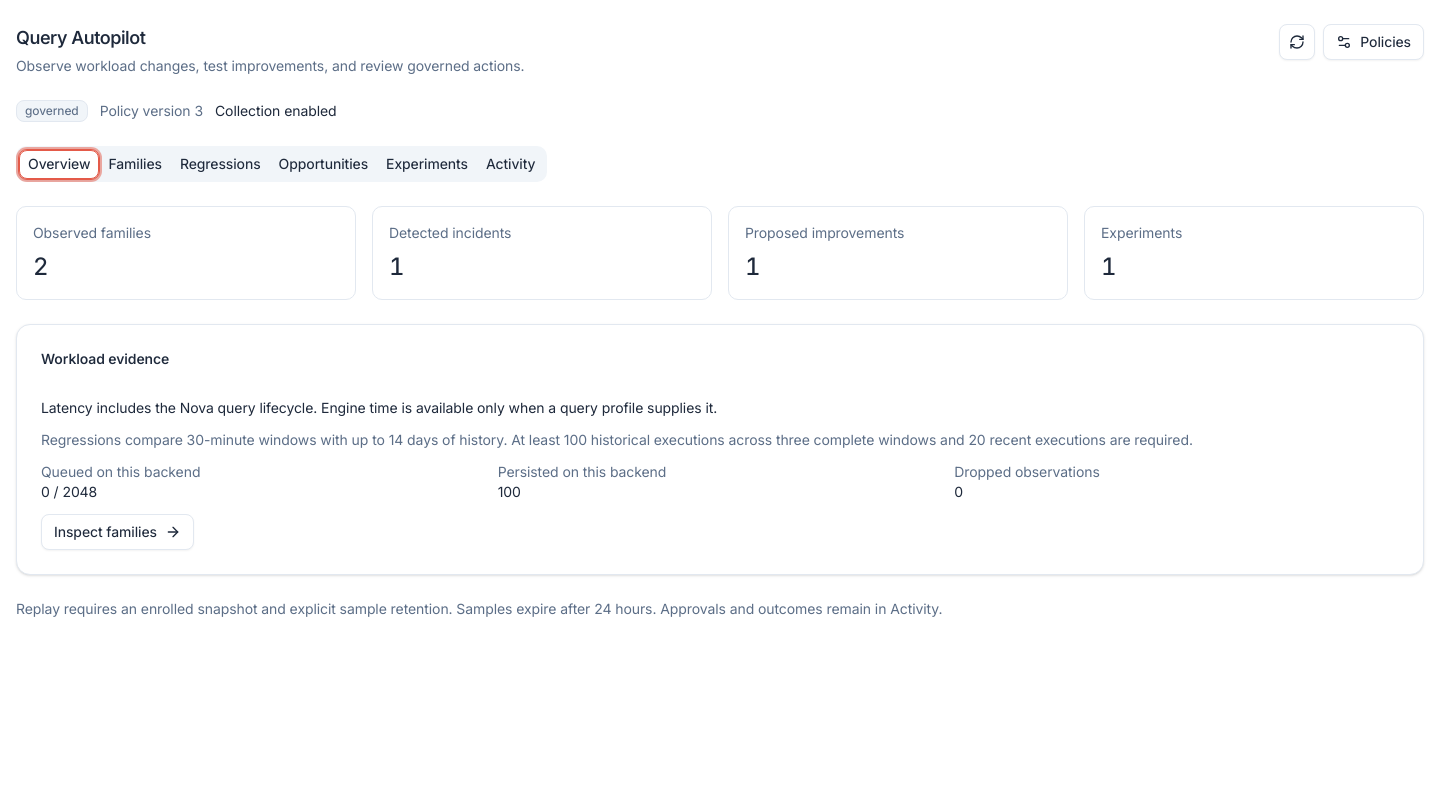
Test: supports keyboard navigation, empty and error states
This screenshot has width=1440, height=810.
expect the tab "Overview" is shown: met, box left=19, top=150, right=99, bottom=178
Press Arrowright
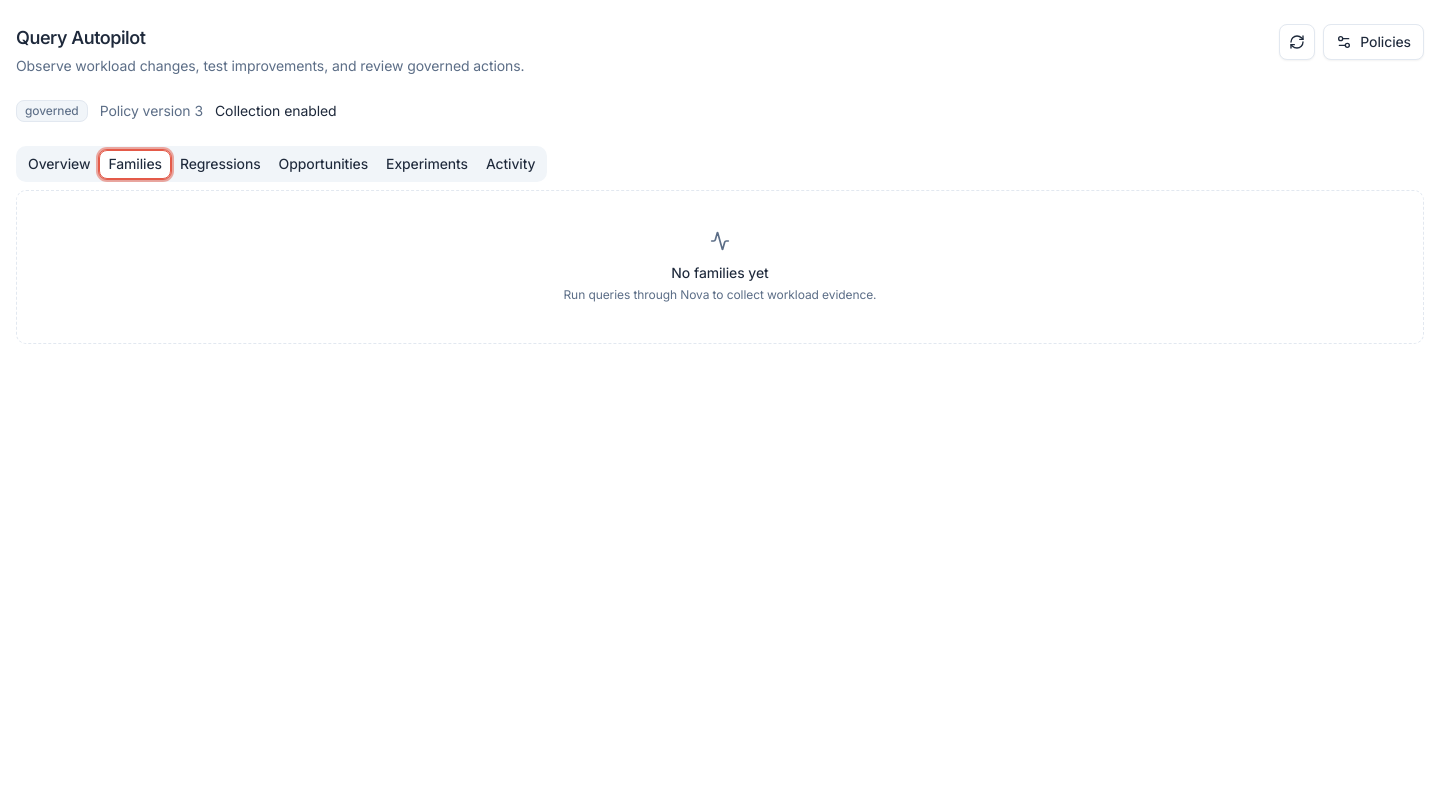
expect the text "No families yet" is shown: met, box left=671, top=263, right=769, bottom=283
Click the button named "Refresh Autopilot" at (1297, 42), box left=1279, top=24, right=1315, bottom=60
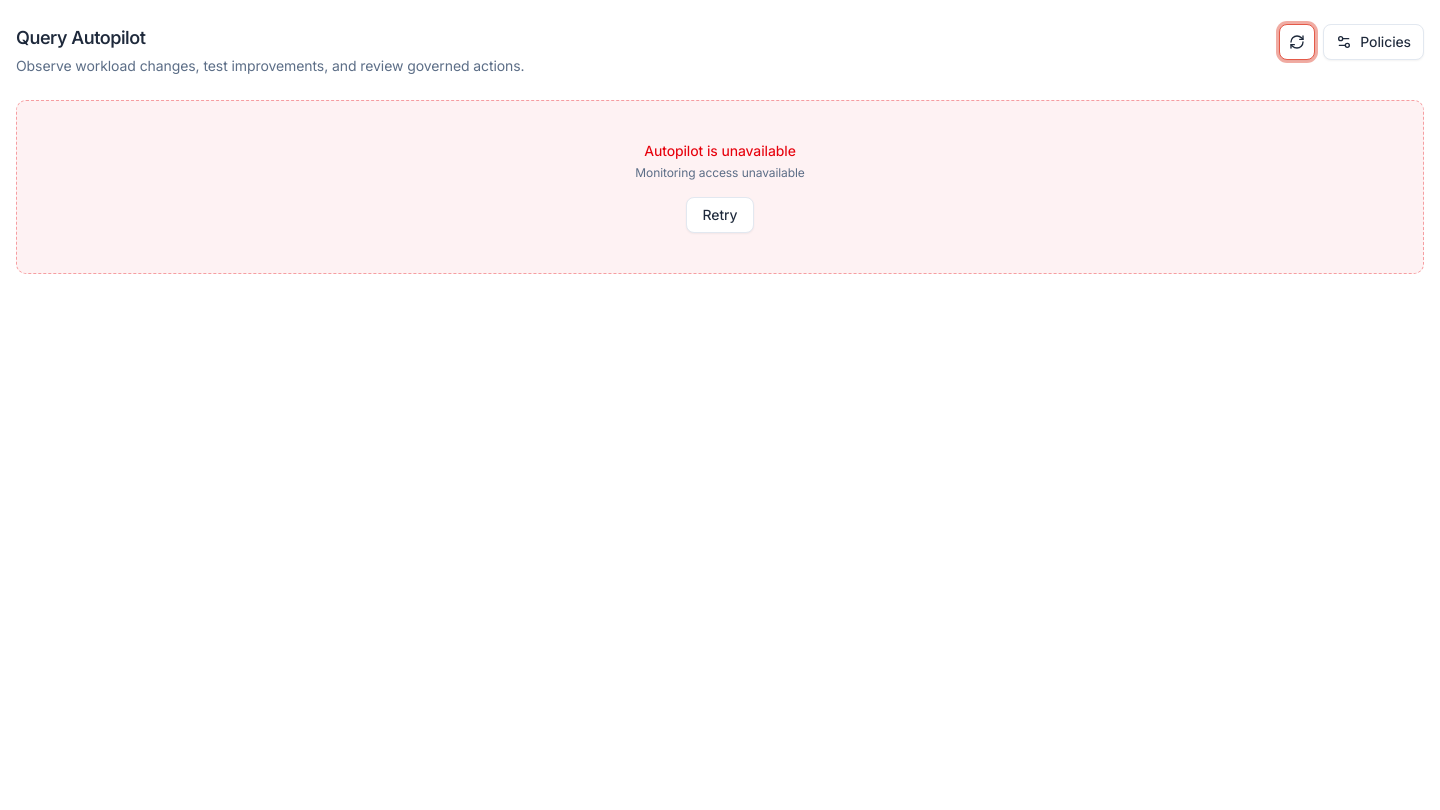
expect the text "Autopilot is unavailable" is shown: met, box left=644, top=141, right=796, bottom=161
